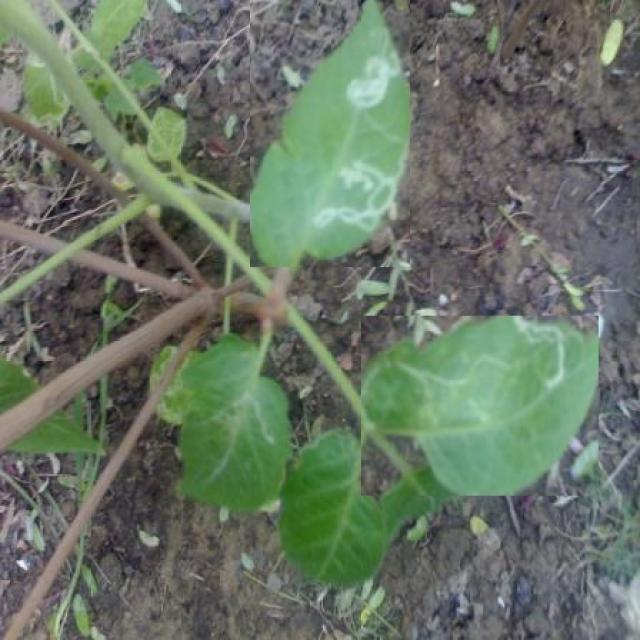Leaf Miner: (360, 316, 599, 496), (250, 0, 410, 267)
